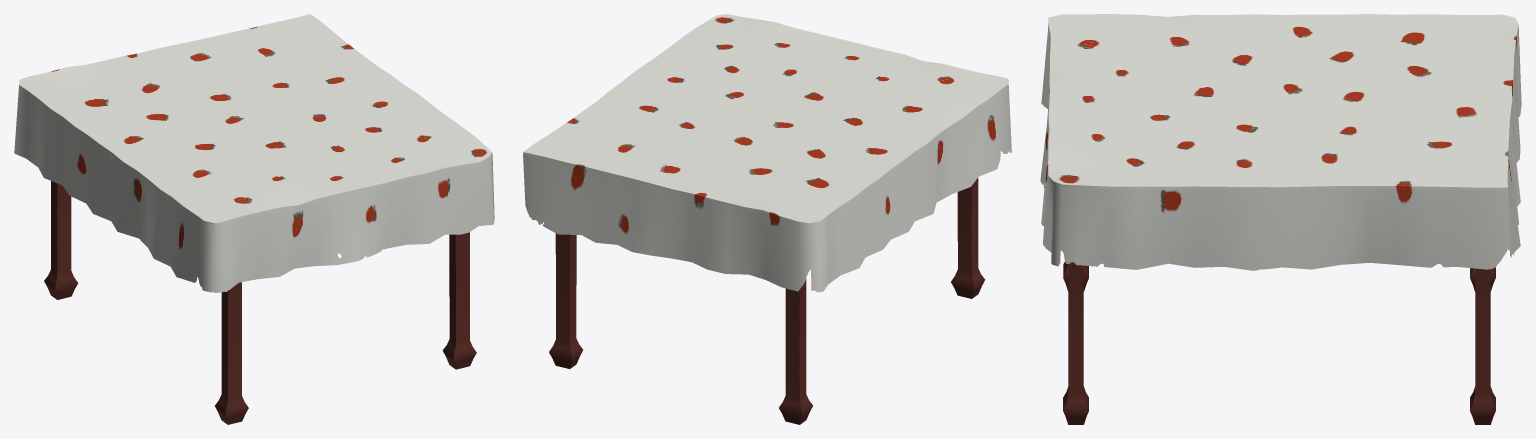
Rendered from PartyTable.fbx.
The picture shows the model from 3 angles, left to right: view 1: azimuth 30°, elevation 25°; view 2: azimuth 150°, elevation 25°; view 3: azimuth 270°, elevation 25°; orthographic projection. The views are drawn at different scales.
Parts seen in each view (by area): view 1: Cube.011; view 2: Cube.011; view 3: Cube.011.
Part boxes in pixels (box(x1,y1,x2,y2)): Cube.011: box(14, 14, 494, 424); Cube.011: box(523, 14, 1011, 424); Cube.011: box(1040, 14, 1521, 424).
Size of the model in its own units: 305 by 205 by 350.
